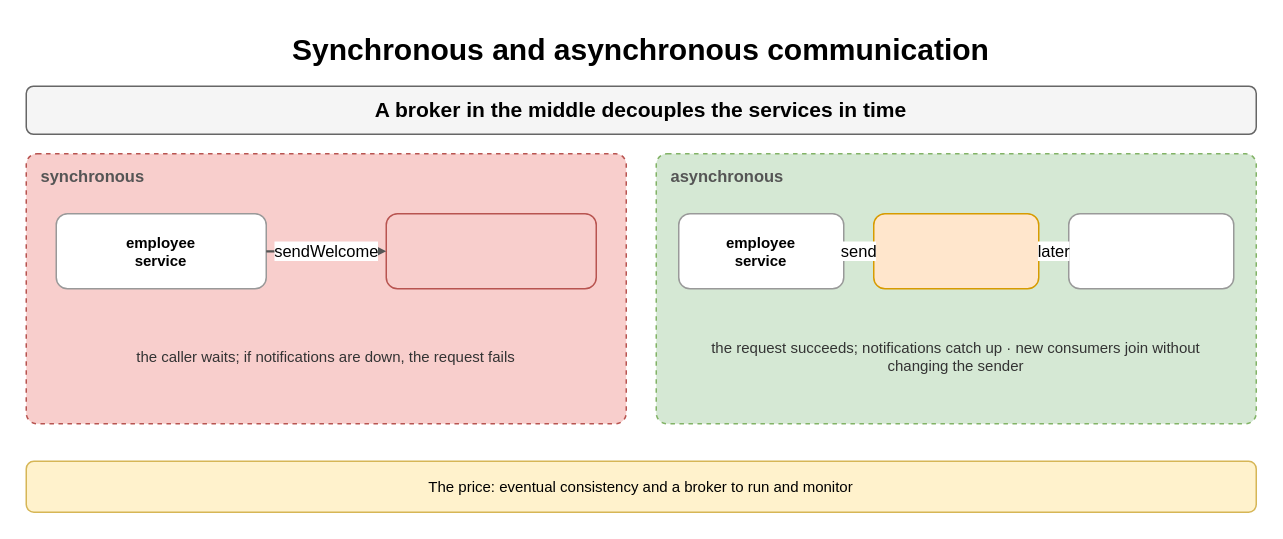
Some shapes in this 1283 by 539 pixel diagram are drawn without their labels. Each missing label, with the centre of its shape:
"Kafka employee-events" goes at (x=955, y=250).
"notification service" goes at (x=1150, y=250).
"notification service (down)" goes at (x=490, y=250).
